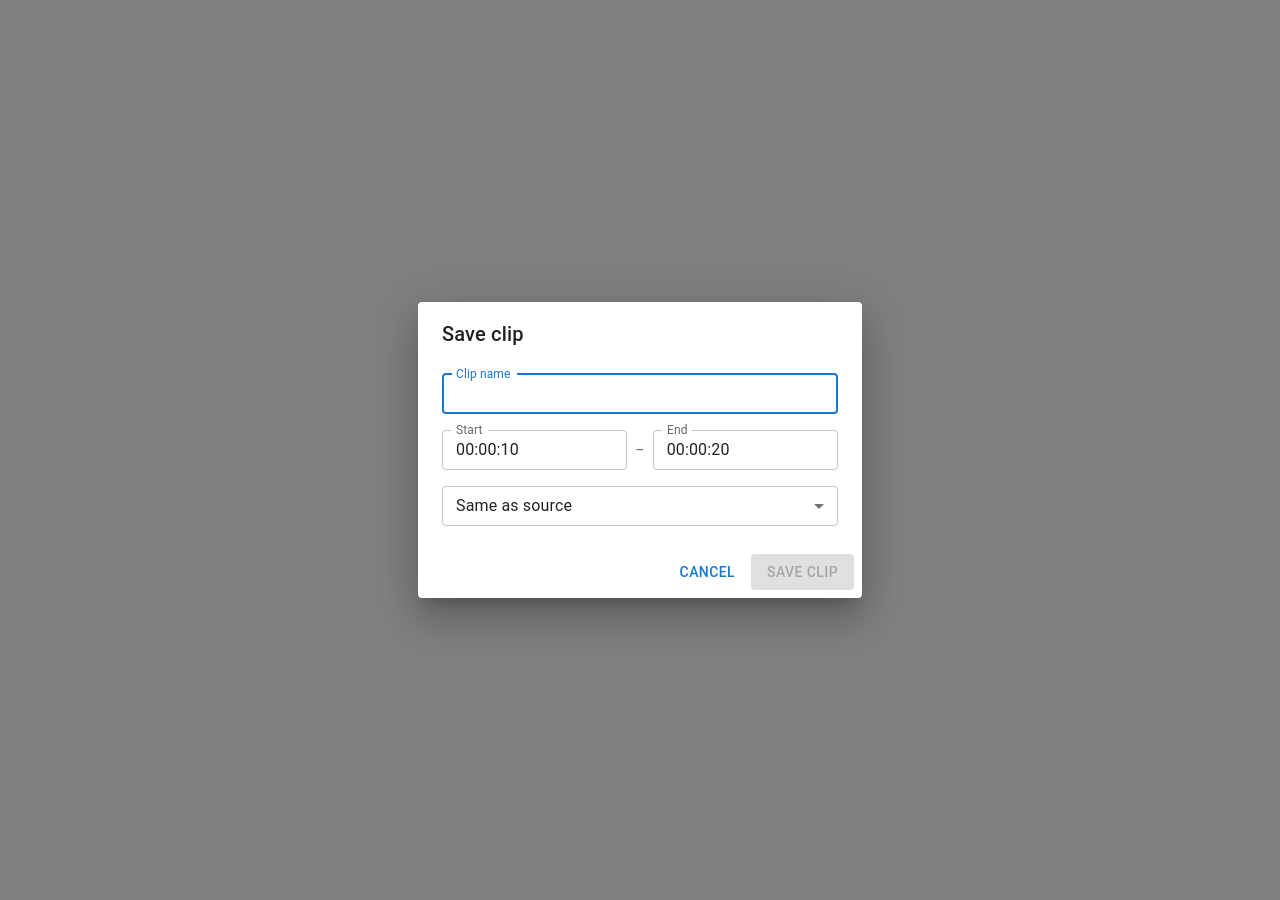
Scenario: SaveClipDialog › disables submit when the range is invalid
The image size is (1280, 900).
Type "New Clip" into the field labelled "Clip name" at (640, 394), box [442,374,838,414]
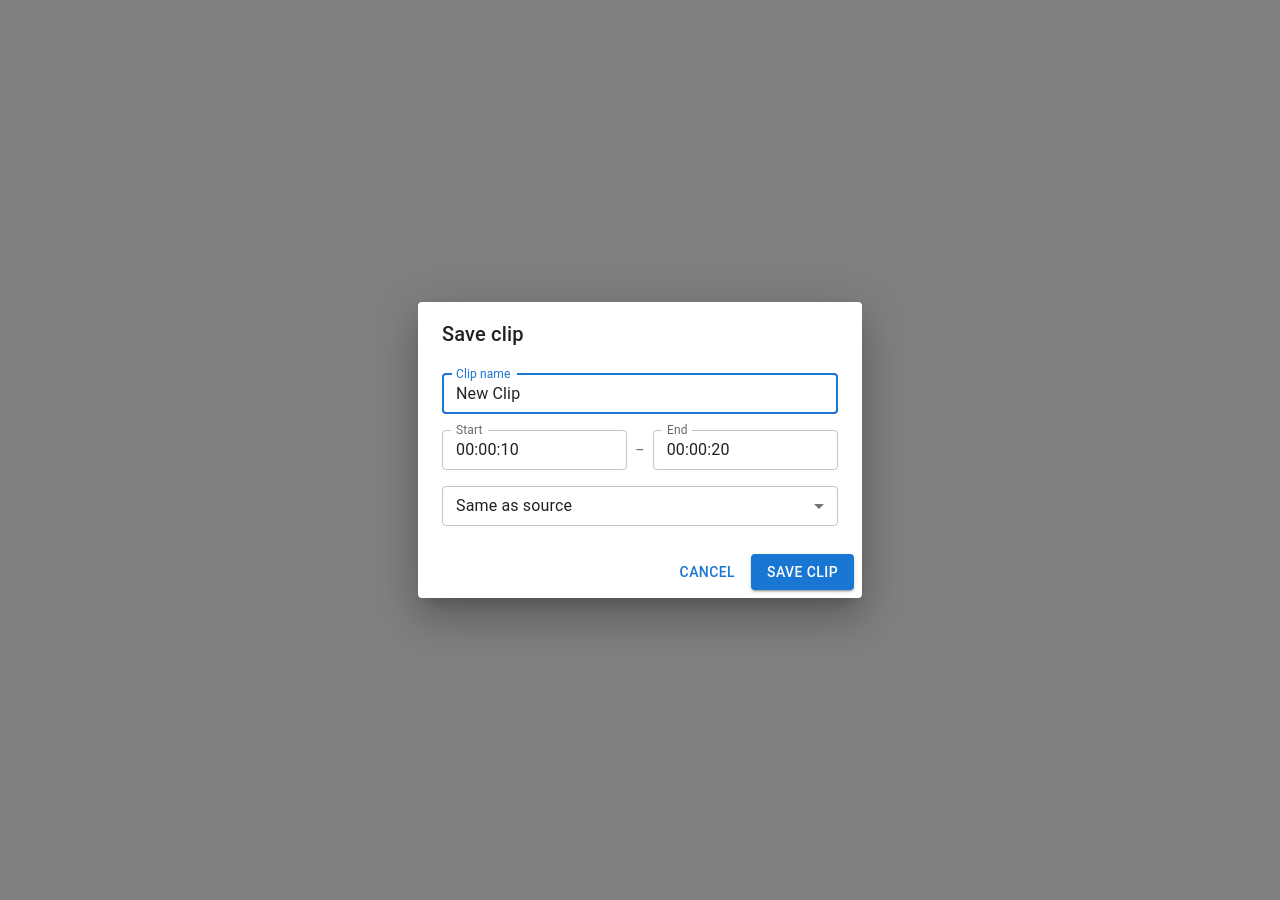
Replace the text in the field labelled "End" with "000005" at (745, 450), box [653,430,838,470]
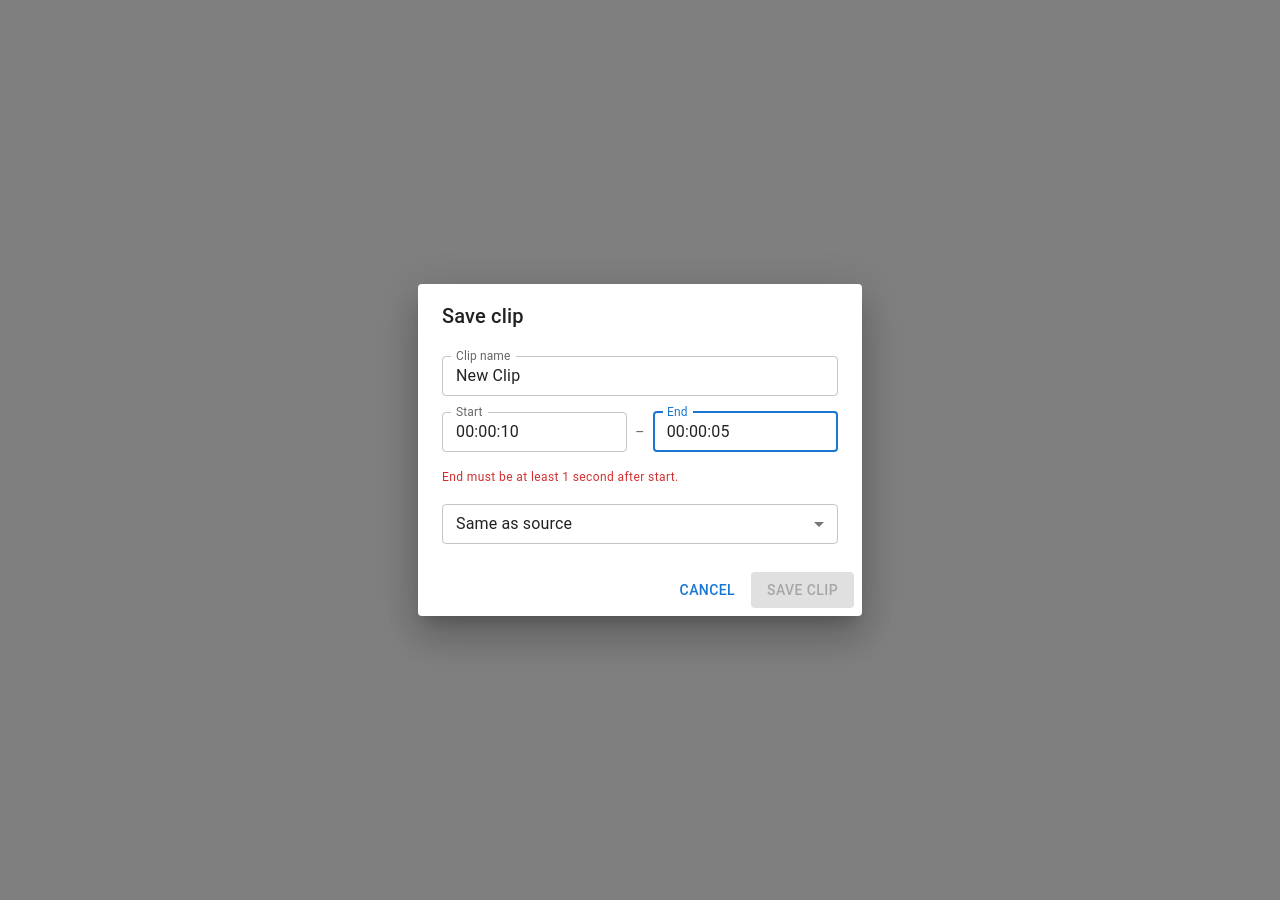
Now the button "Save clip" is disabled, box [751,572,854,608]
Now the text "End must be at least 1 second after start." is shown, box [442,470,678,484]
